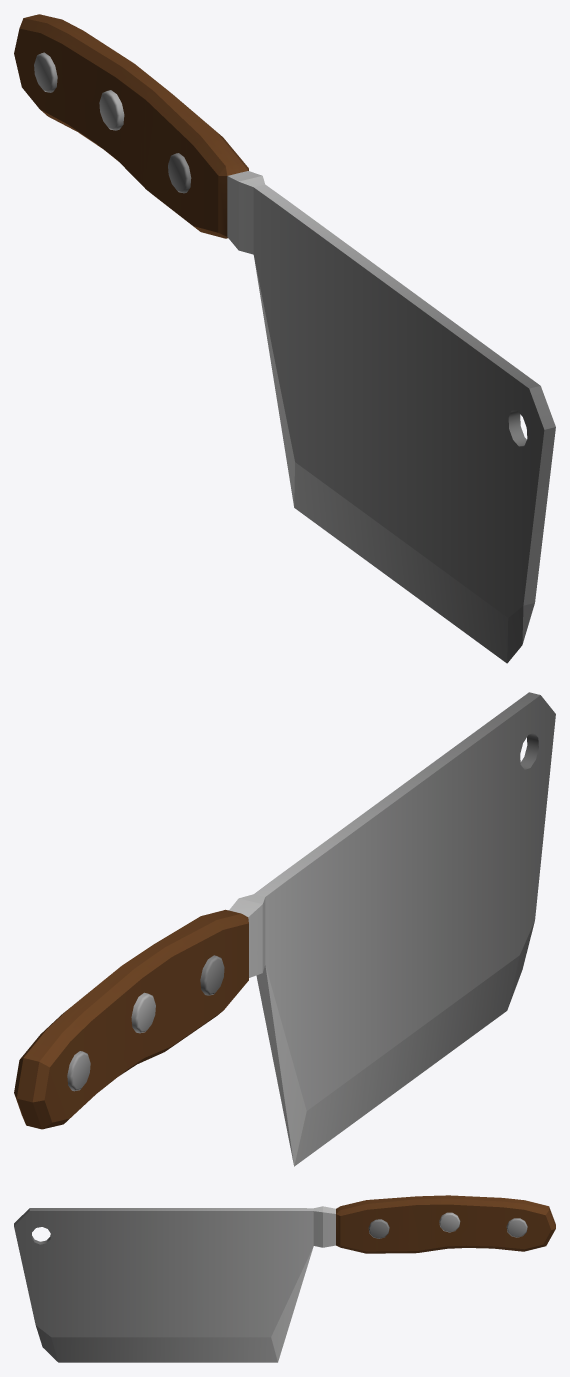
The model's file is Knife_Var2.fbx.
3 renders of one model, top to bottom at view 1: azimuth 30°, elevation 25°; view 2: azimuth 150°, elevation 25°; view 3: azimuth 270°, elevation 25°, orthographic. The views are drawn at different scales.
Parts seen in each view (by area): view 1: Knife_var2; view 2: Knife_var2; view 3: Knife_var2.
Boxes of the visible parts, left/top/right/bottom form: Knife_var2: left=14, top=14, right=555, bottom=663; Knife_var2: left=14, top=692, right=555, bottom=1166; Knife_var2: left=14, top=1195, right=555, bottom=1362.
Bounding box in the file's own units: 2.15 × 16.88 × 50.07.
Materials: 1 (1 with a texture image).
